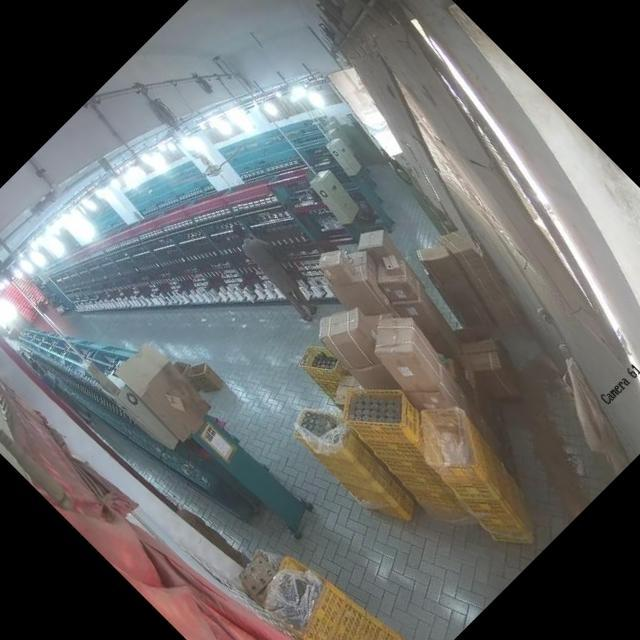person: (222, 220, 328, 326)
